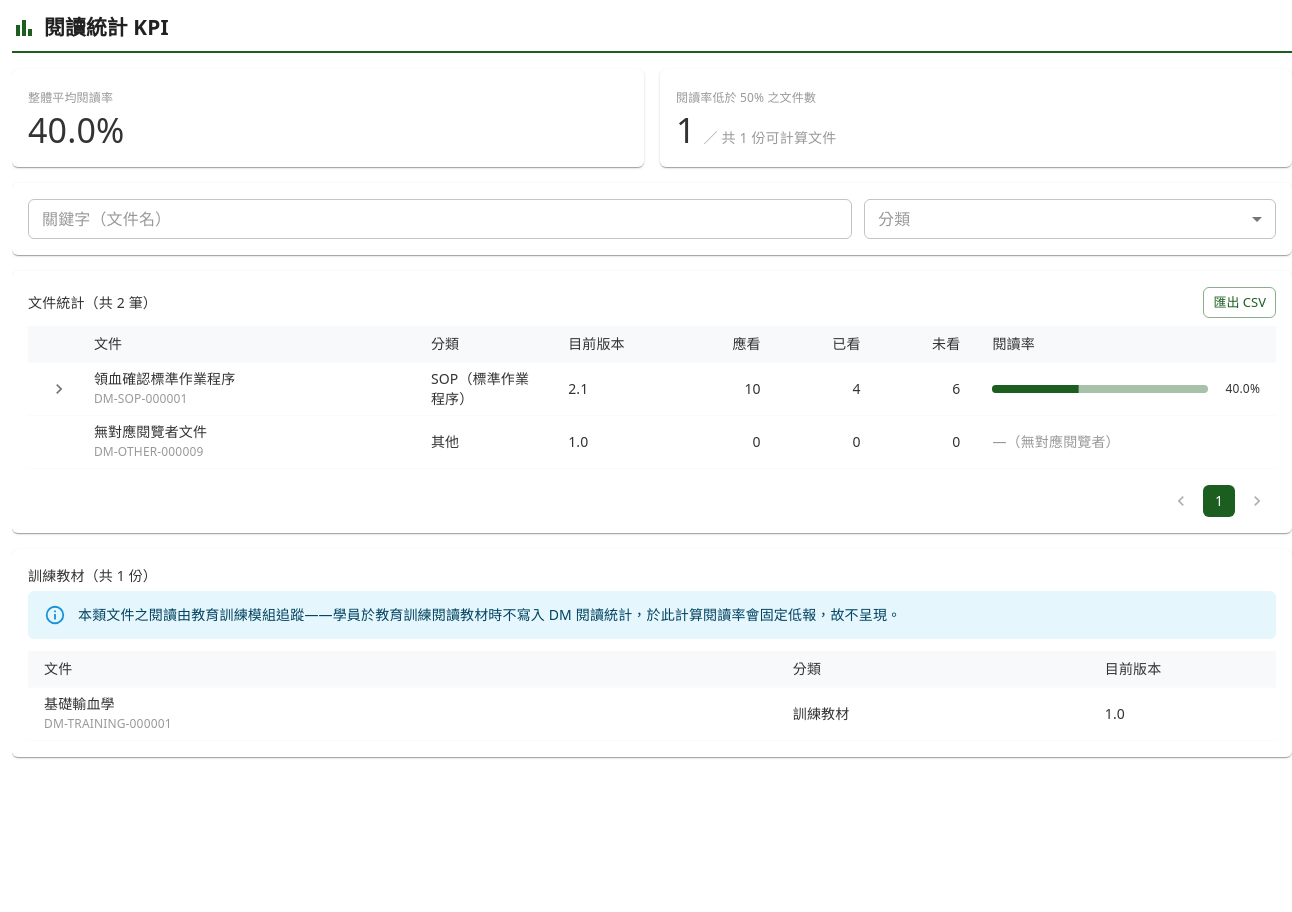
Test case: DmKpiPage 閱讀統計 KPI › 展開文件 → 逐可見對象組明細
Expected: the text "領血確認標準作業程序" is shown, [94,369,235,388]
Expected: the text "醫檢師" is not shown
What coordinates should you click on to do the following:
click the button named "展開 領血確認標準作業程序 的可見對象"
I would click on:
 (59, 389)
Its box is [44,374,74,404].
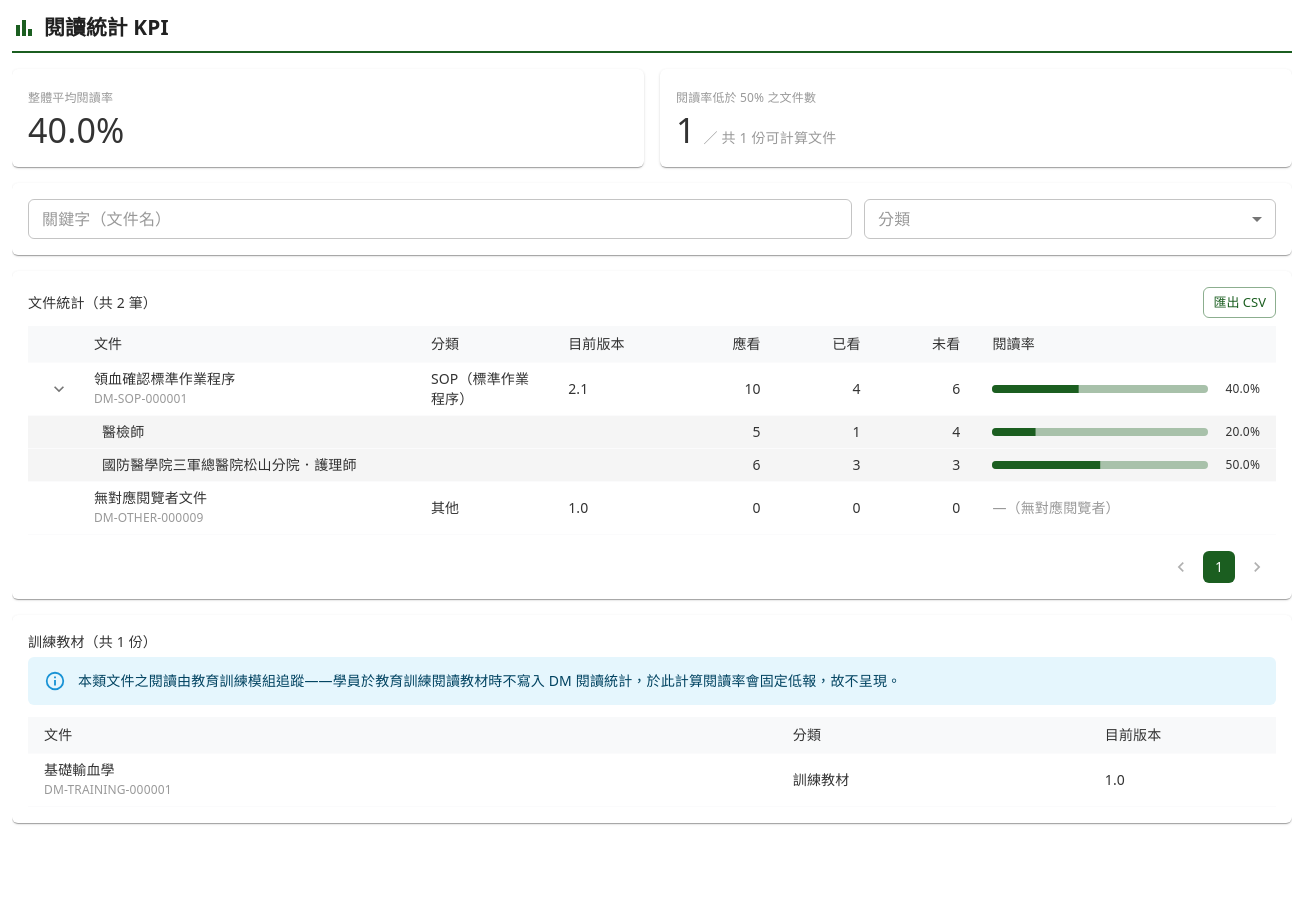
Expected: the text "醫檢師" is shown, [102,422,144,441]
Expected: the text "國防醫學院三軍總醫院松山分院．護理師" is shown, [102,455,357,474]
